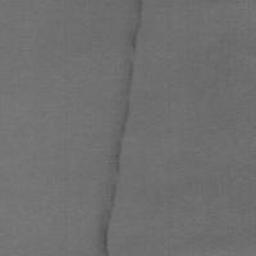Inclusion: (95, 0, 145, 256)
